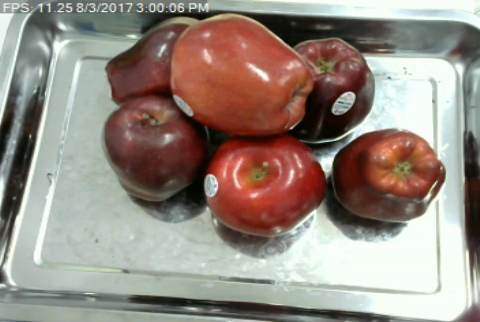Apple: (167, 8, 315, 137), (201, 128, 330, 240), (101, 92, 214, 204), (328, 126, 452, 225), (284, 32, 380, 145), (105, 14, 198, 105)
